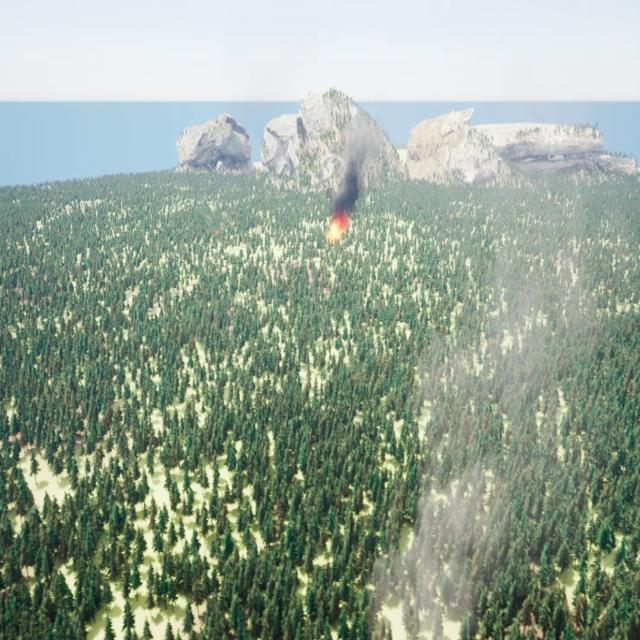fire: (324, 214, 352, 245)
smoke: (374, 232, 604, 639), (332, 122, 375, 212)
